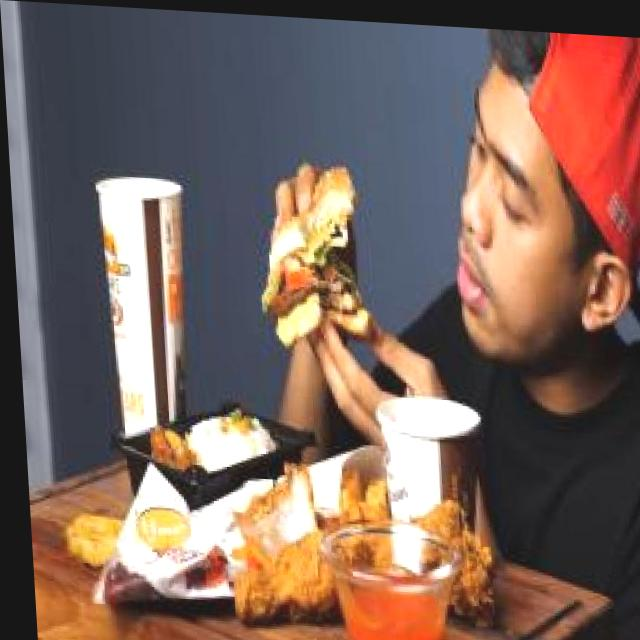AW cola: (87, 159, 200, 438)
black pepper rice bowl: (130, 380, 291, 502)
crispy corn: (367, 384, 494, 530)
fried chicken: (223, 442, 514, 626)
mozza burger: (242, 151, 396, 358)
perkedel: (58, 492, 127, 580)
